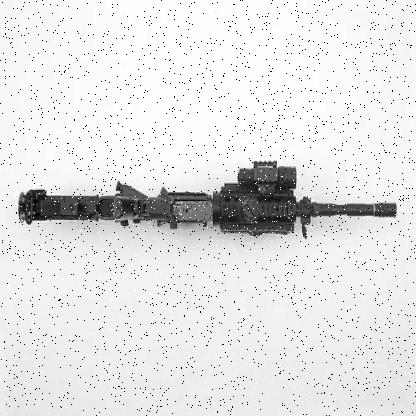rifle: (16, 140, 400, 262)
